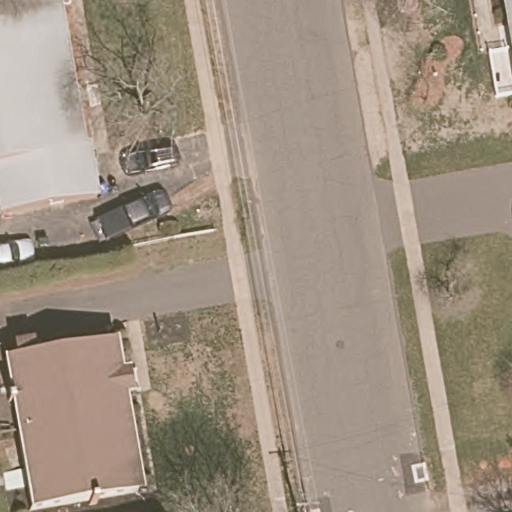DT: (294, 485, 320, 512)
